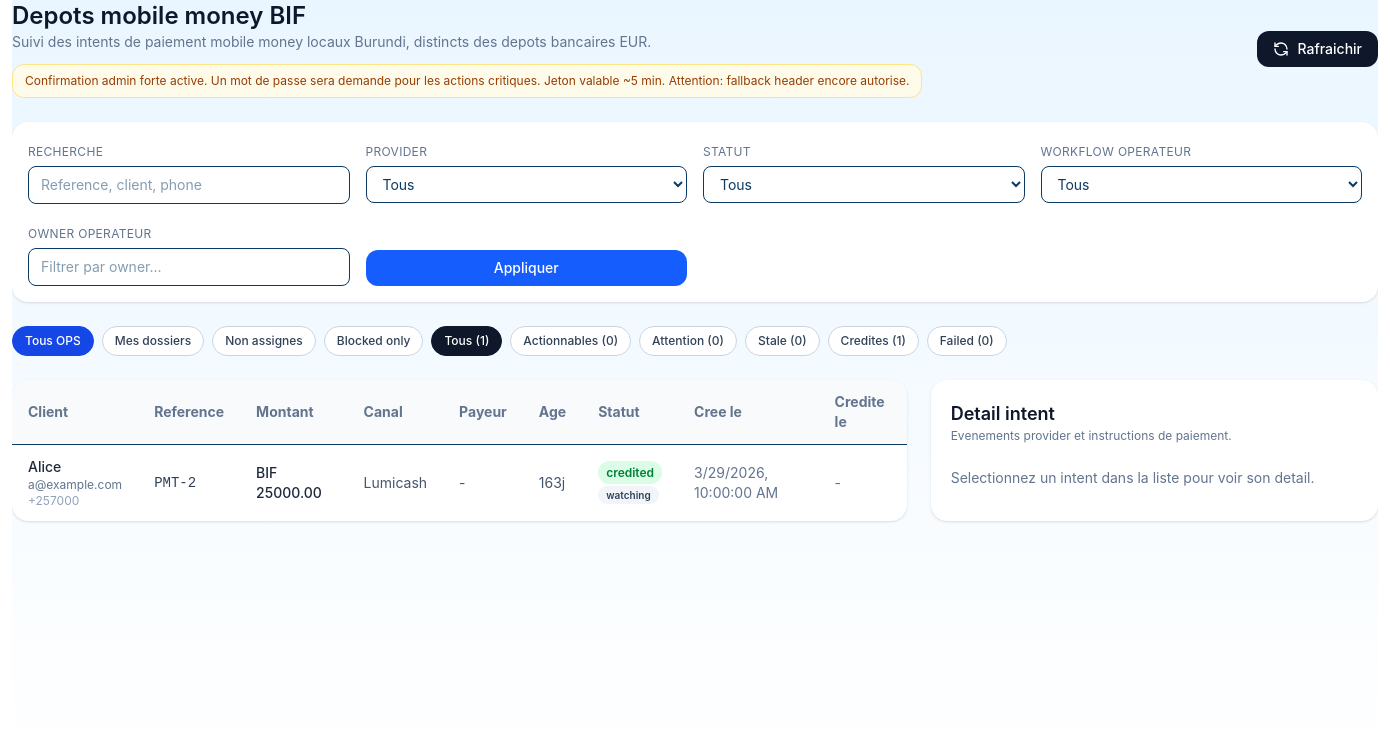
it: AdminPaymentIntentsPage › shows step-up validation method on payment events
This screenshot has width=1390, height=754.
Click the text "PMT-2" at [189, 483], box [138,444,240,521]
(page scrolled)
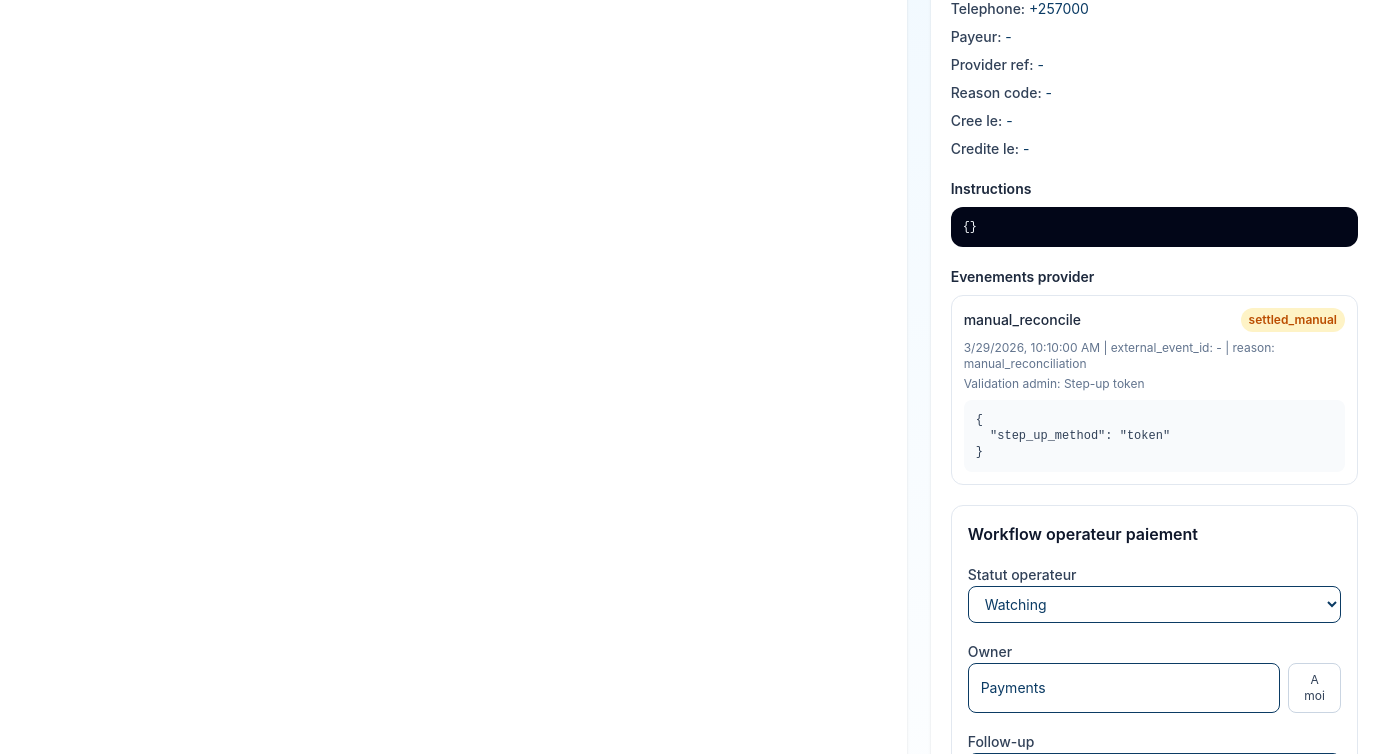
expect the text "Validation admin: Step-up token" is shown: met, box [964,376,1144,391]
